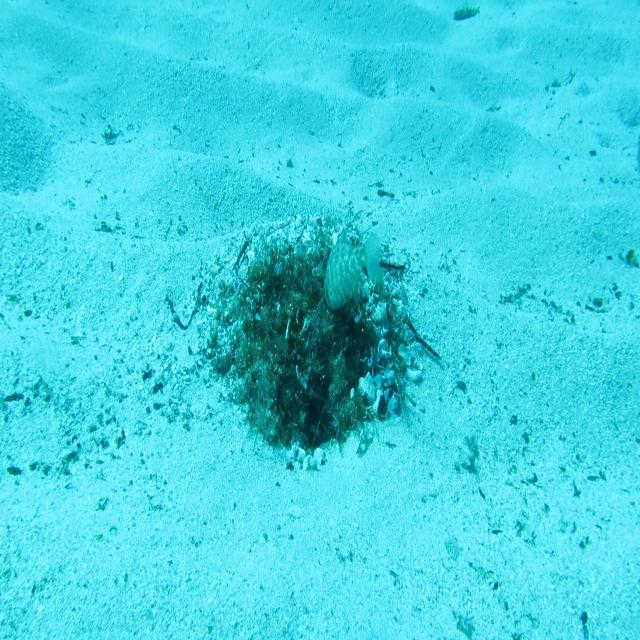NIP_CORE: (322, 228, 384, 315)
core_nest: (276, 269, 329, 303)
female: (636, 138, 640, 178)
nest: (190, 202, 434, 478)
vegetation: (452, 6, 480, 20)
